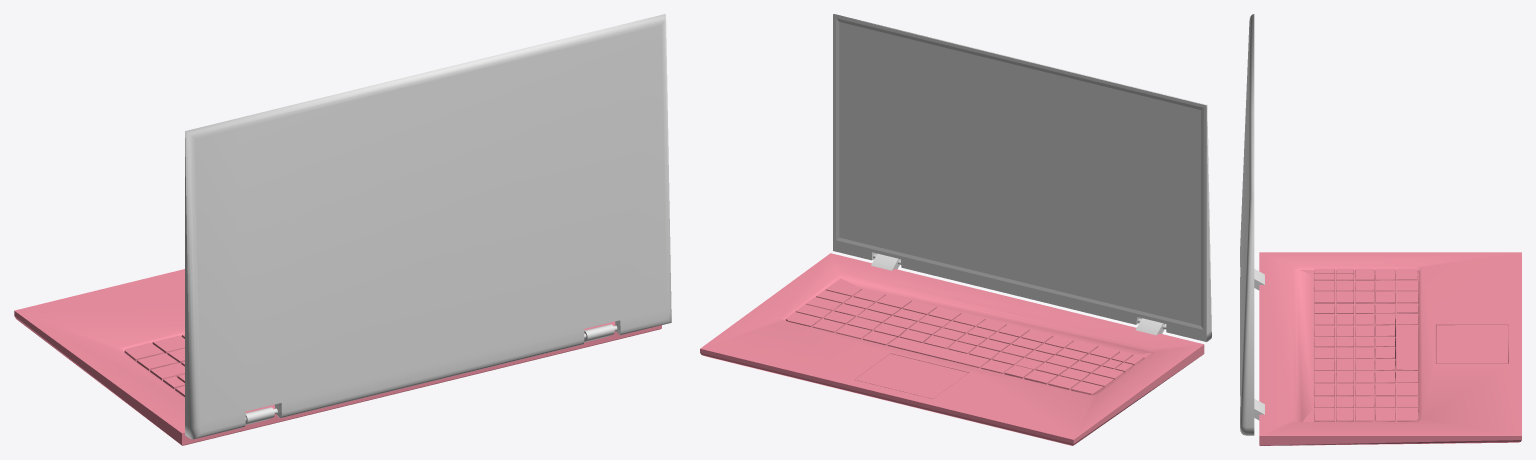
File: ordi70%.FBX
3 renders of one model, left to right at view 1: azimuth 30°, elevation 25°; view 2: azimuth 150°, elevation 25°; view 3: azimuth 270°, elevation 25°, orthographic. The views are drawn at different scales.
Visible parts, largest first — view 1: Box002, Box001; view 2: Box002, Box001; view 3: Box001, Box002.
Boxes of the visible parts, x1,y1,x2,y2 form: Box002: (185, 14, 671, 439); Box001: (14, 269, 661, 445); Box002: (833, 14, 1211, 341); Box001: (700, 253, 1204, 445); Box001: (1259, 252, 1521, 445); Box002: (1240, 14, 1254, 435).
Size of the model in its own units: 68.59 by 43.87 by 44.53.
